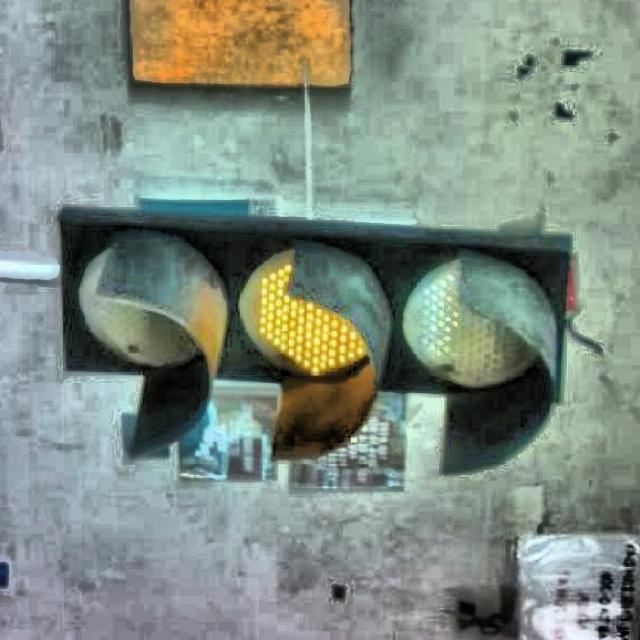yellow: (60, 221, 578, 388)
